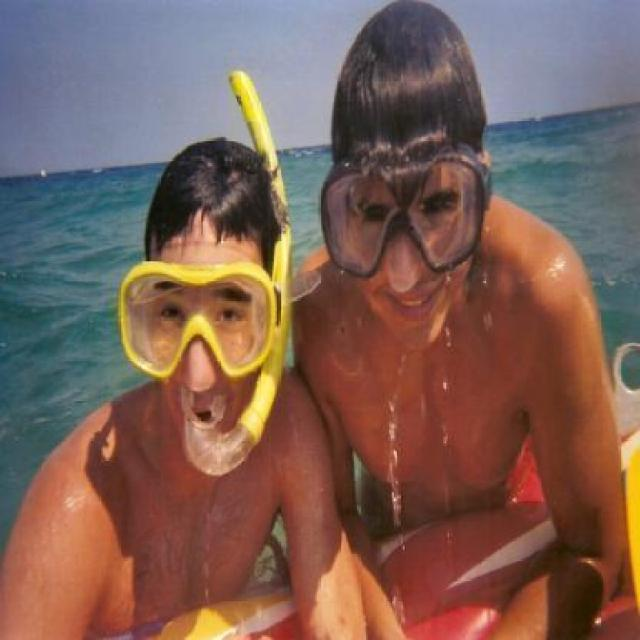glasses: (103, 243, 300, 386), (298, 155, 510, 283)
head_nohelmet: (313, 2, 492, 152), (136, 137, 284, 235)
person: (279, 3, 638, 640), (0, 126, 334, 640)
